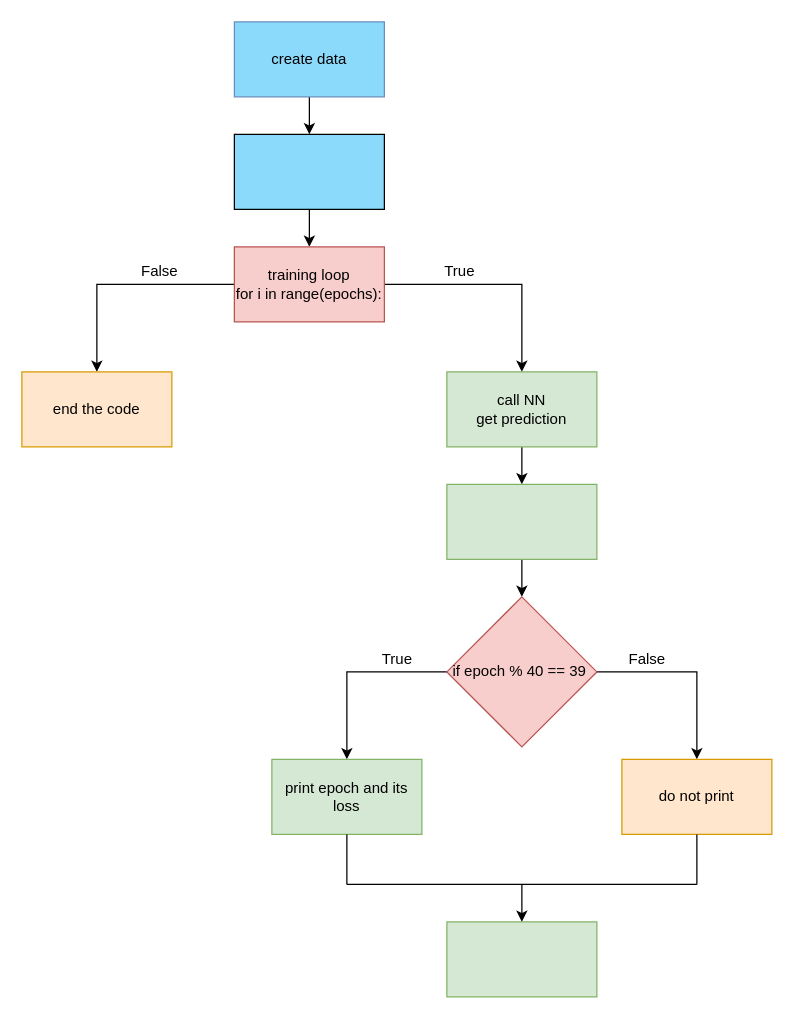
This 794x1019 diagram has some shape labels left out. Each missing label, with the centre of its shape:
"create GRU model" goes at [308,171].
"prediction, loss function, backpropagation" goes at [521,521].
"print elapsed time" goes at [521,959].
